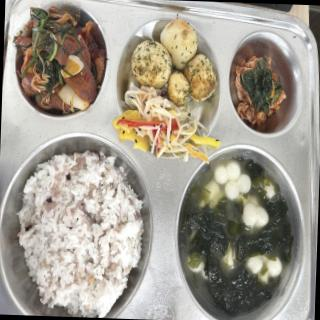Nasi: (4, 148, 142, 320)
